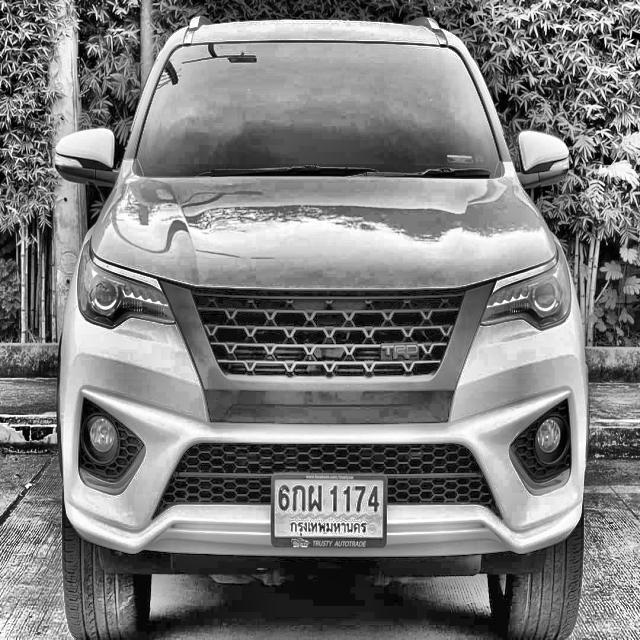license-plate: (268, 467, 389, 551)
